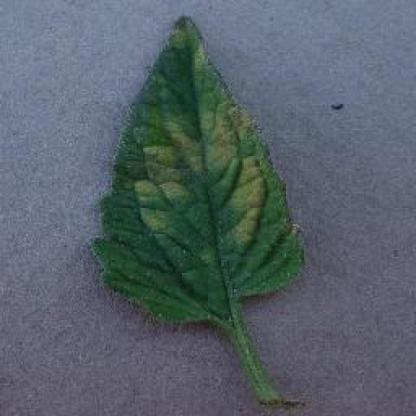Tomato_Leaf_Mold: (93, 17, 303, 324)
